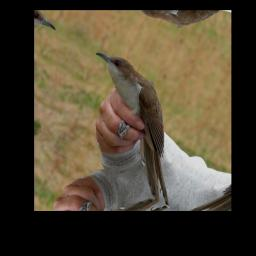Cuckoo: (54, 43, 214, 207)
